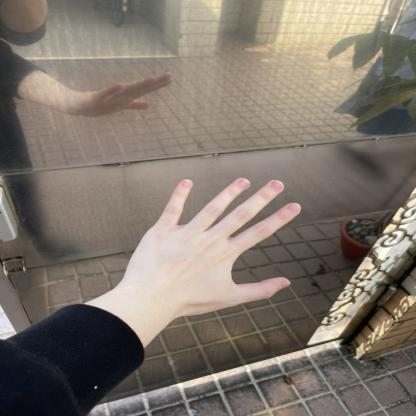bare_hand: (110, 166, 315, 326), (56, 60, 180, 124)
